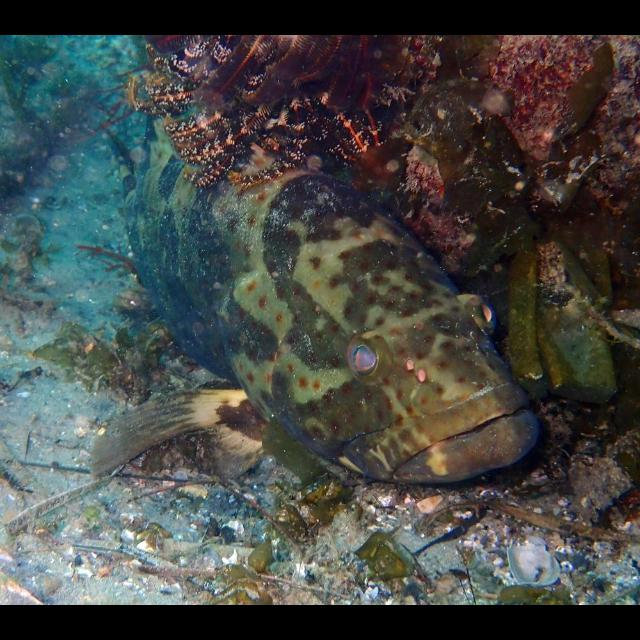Groupers: (107, 90, 541, 484)
